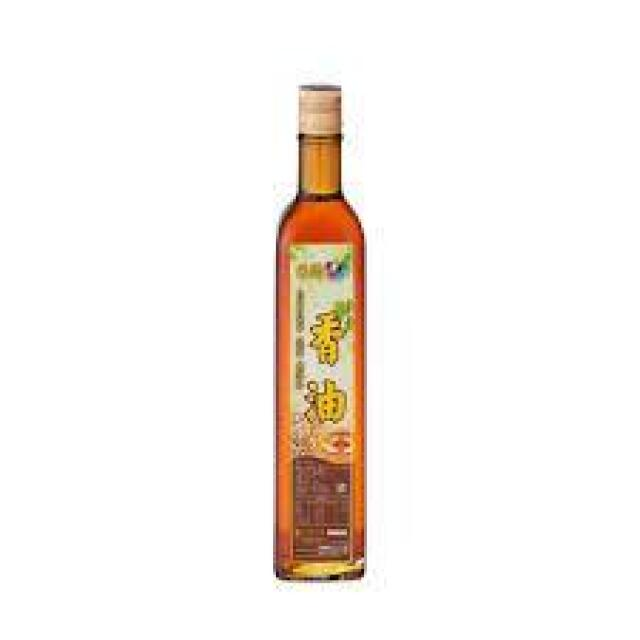inorganic: (264, 80, 370, 583)
